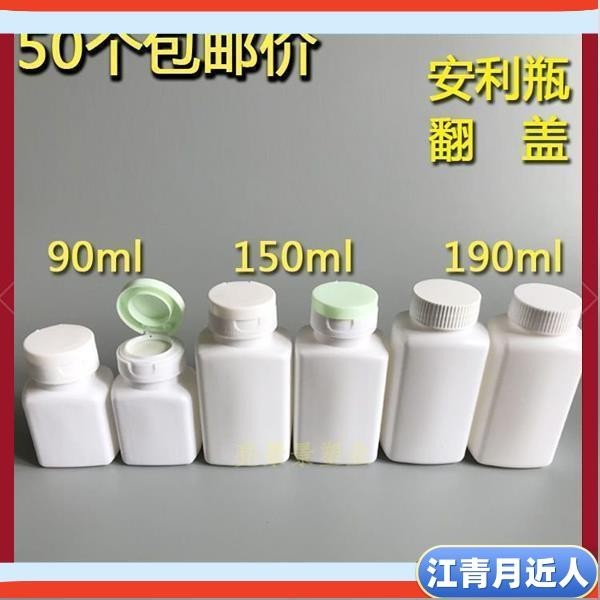medicinejar: (474, 281, 581, 473), (397, 278, 490, 478), (198, 285, 294, 464), (302, 279, 387, 472), (13, 325, 119, 462), (115, 304, 197, 476)
